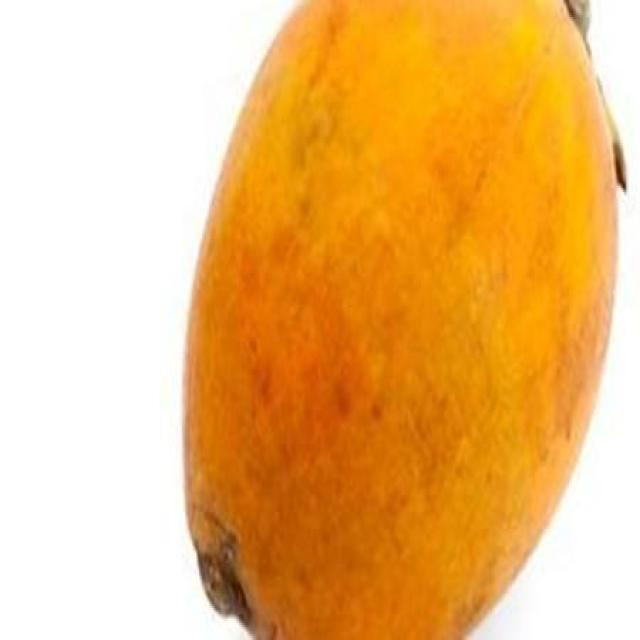good: (182, 0, 623, 638)
